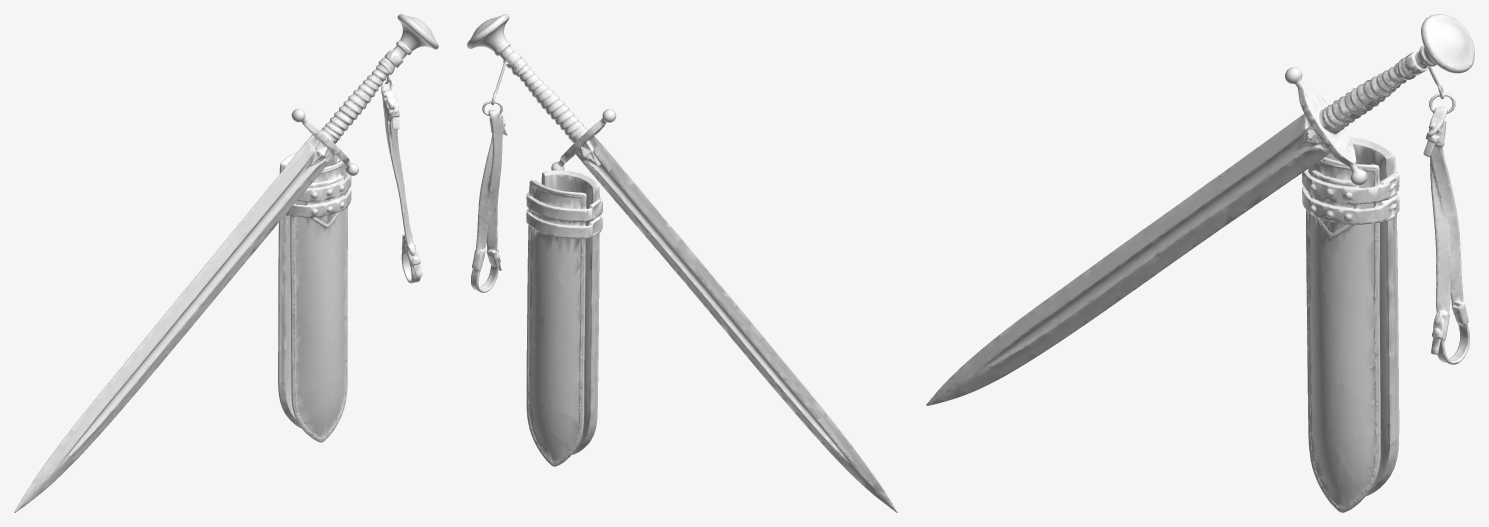
The model's file is SirAldric_SEP_sword_scabbard_PAINTED_mid.glb.
3 views of the same model, side by side, from view 1: azimuth 30°, elevation 25°; view 2: azimuth 150°, elevation 25°; view 3: azimuth 330°, elevation 25° (orthographic). The views are drawn at different scales.
Visible parts, largest first — view 1: SirAldric_SEP_sword_scabbard_PAINTED_MIDPOLY; view 2: SirAldric_SEP_sword_scabbard_PAINTED_MIDPOLY; view 3: SirAldric_SEP_sword_scabbard_PAINTED_MIDPOLY.
Part boxes in pixels (left/top/right/bottom): SirAldric_SEP_sword_scabbard_PAINTED_MIDPOLY: left=14, top=14, right=438, bottom=512; SirAldric_SEP_sword_scabbard_PAINTED_MIDPOLY: left=467, top=14, right=897, bottom=512; SirAldric_SEP_sword_scabbard_PAINTED_MIDPOLY: left=926, top=14, right=1474, bottom=512.
Size of the model in its own units: 1.9 by 1.77 by 0.3211.
Materials: 1 (1 with a texture image).
